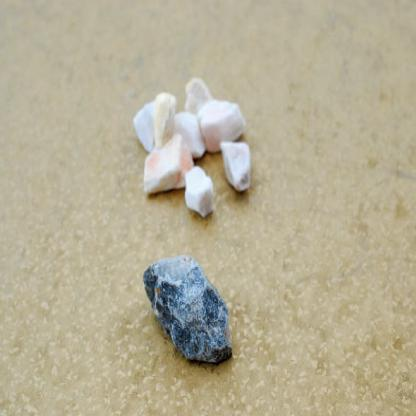Sedimentary_Limestone: (145, 136, 199, 205), (194, 100, 262, 149), (182, 166, 220, 221)
